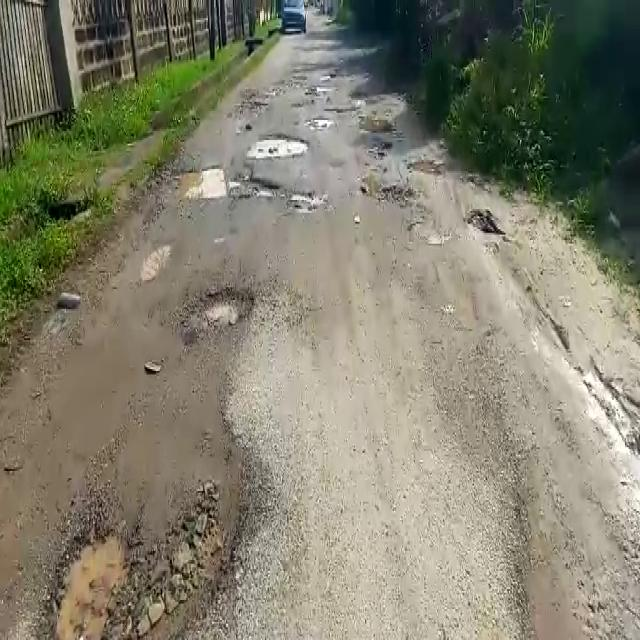Pothole: (45, 487, 256, 638), (183, 281, 256, 335), (175, 166, 278, 201), (251, 132, 310, 158), (289, 192, 327, 214), (246, 98, 274, 113)
